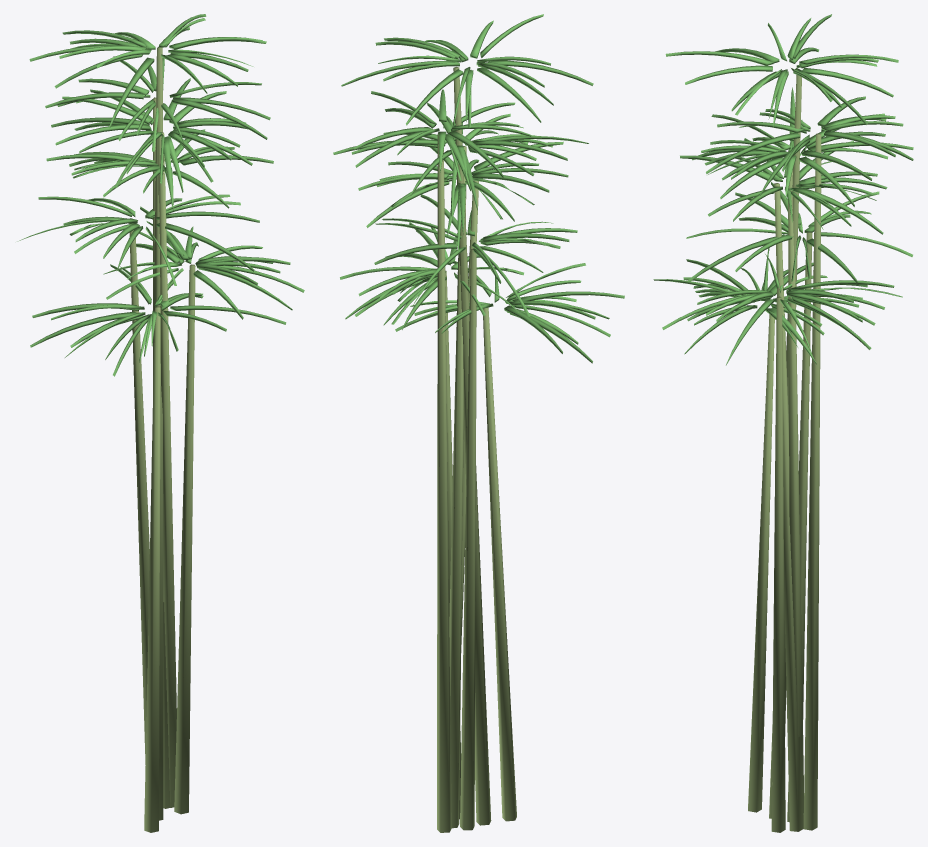
File: papyrus_2.glb
3 renders of one model, left to right at view 1: azimuth 30°, elevation 25°; view 2: azimuth 150°, elevation 25°; view 3: azimuth 270°, elevation 25°, orthographic.
Parts seen in each view (by area): view 1: papyrus; view 2: papyrus; view 3: papyrus.
Part boxes in pixels (box(x1,y1,x2,y2)): papyrus: box(17, 14, 304, 832); papyrus: box(333, 14, 624, 832); papyrus: box(653, 14, 913, 832).
Size of the model in its own units: 0.5768 by 1.75 by 0.5398.
